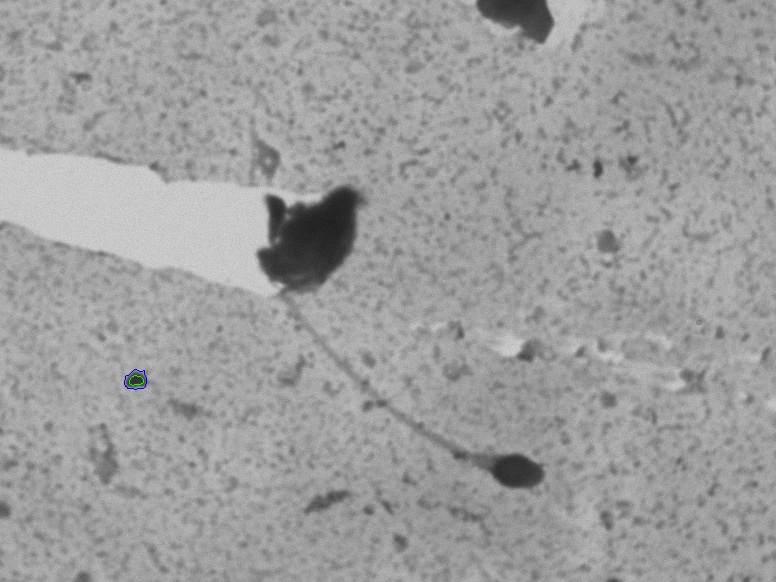Abnormal: (277, 275, 567, 501)
